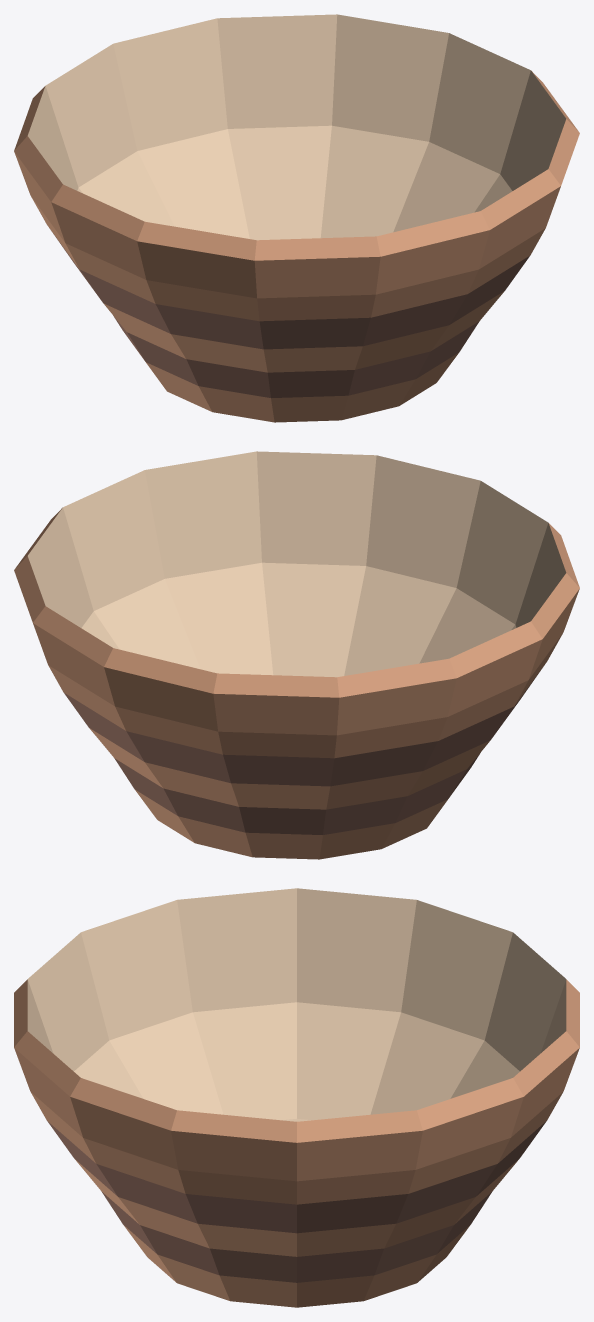
File: 16-Crafting_bowl_barro.glb
The picture shows the model from 3 angles, top to bottom: view 1: azimuth 30°, elevation 25°; view 2: azimuth 150°, elevation 25°; view 3: azimuth 270°, elevation 25°; orthographic projection. The views are drawn at different scales.
Visible parts, largest first — view 1: SM_Bowl_Cuerpo; view 2: SM_Bowl_Cuerpo; view 3: SM_Bowl_Cuerpo.
Part boxes in pixels (box(x1,y1,x2,y2)): SM_Bowl_Cuerpo: box(14, 14, 579, 422); SM_Bowl_Cuerpo: box(14, 451, 579, 859); SM_Bowl_Cuerpo: box(14, 888, 579, 1307).
Size of the model in its own units: 0.208 by 0.094 by 0.2028.
